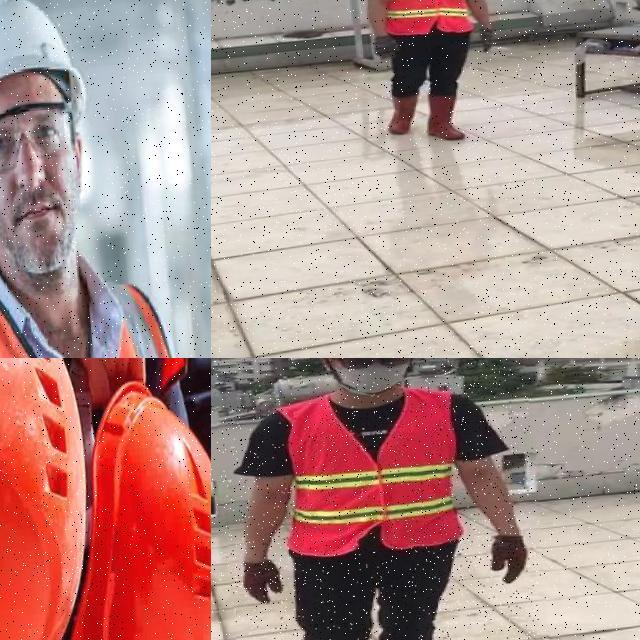boots: (422, 90, 468, 144), (384, 91, 420, 137)
helmet: (40, 371, 211, 640), (0, 358, 113, 640), (0, 0, 93, 161)
vest: (278, 388, 460, 560), (0, 262, 196, 358), (379, 0, 476, 37)
